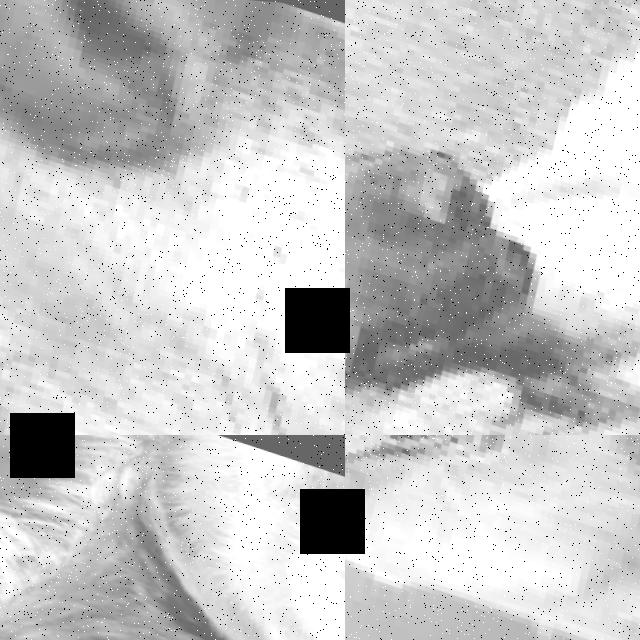dog: (0, 0, 345, 435), (345, 0, 640, 435), (345, 435, 640, 640)
wolf: (0, 435, 345, 640)
